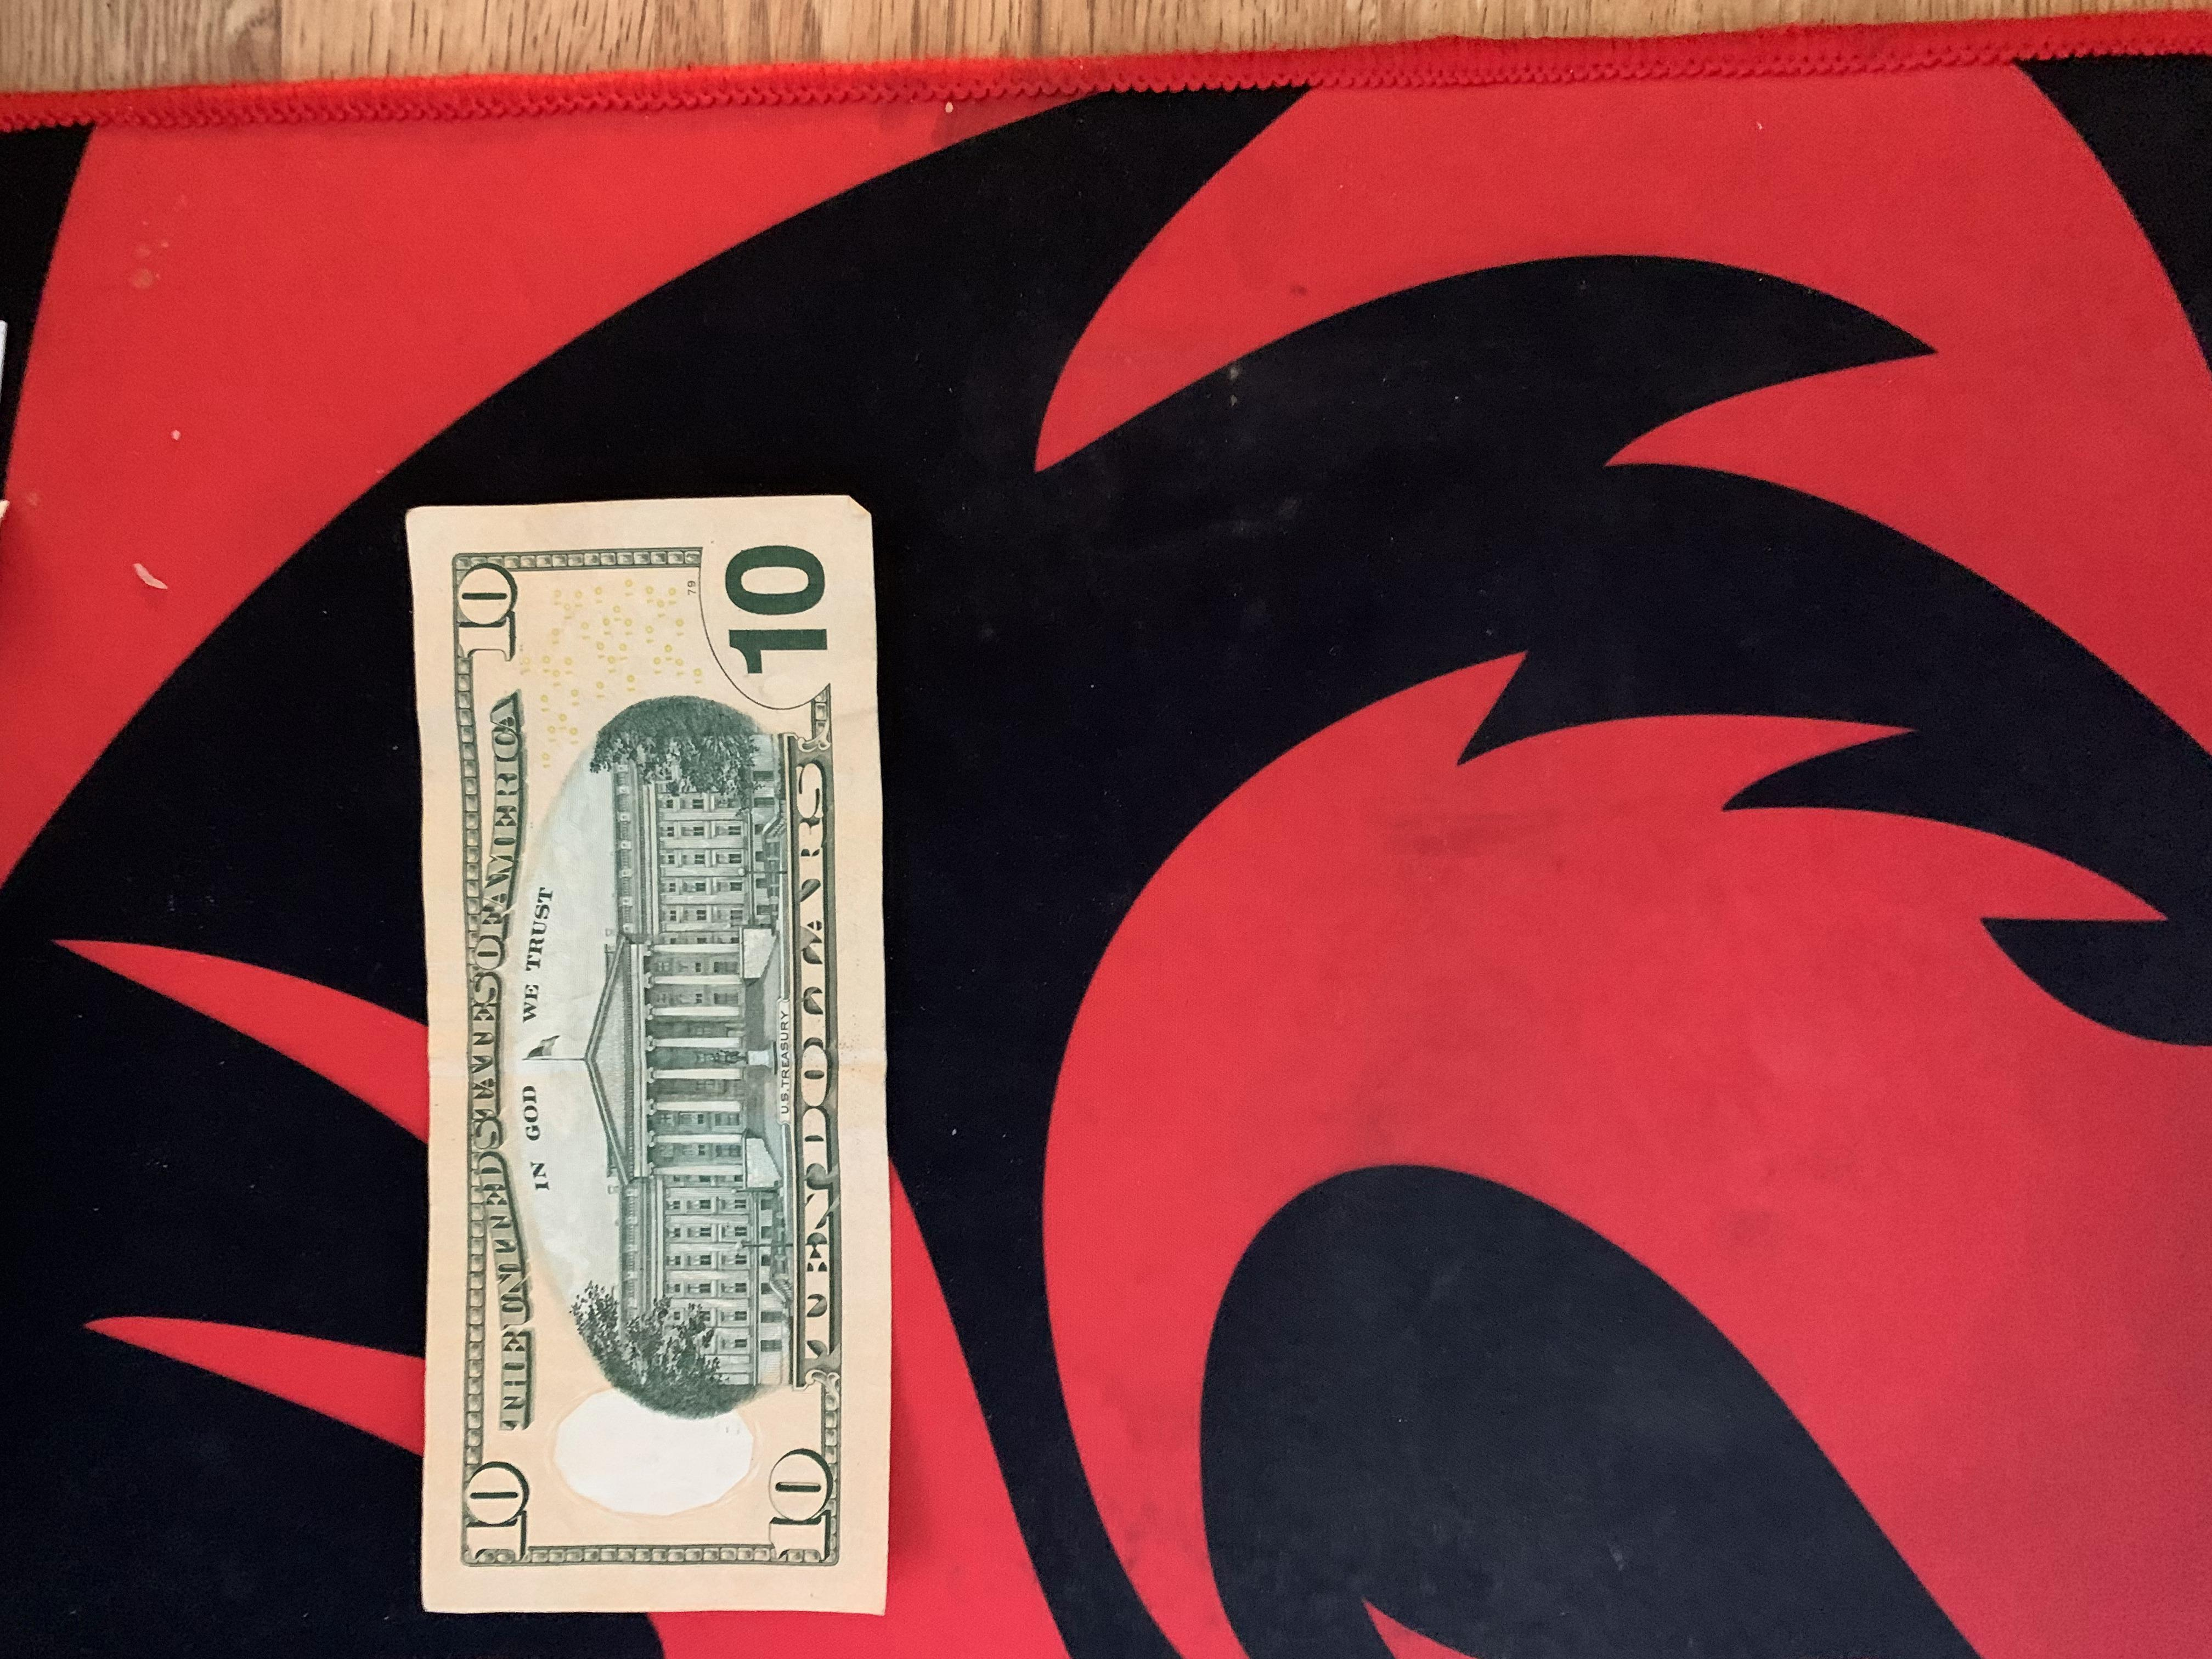TenBill: (423, 488, 873, 1615)
